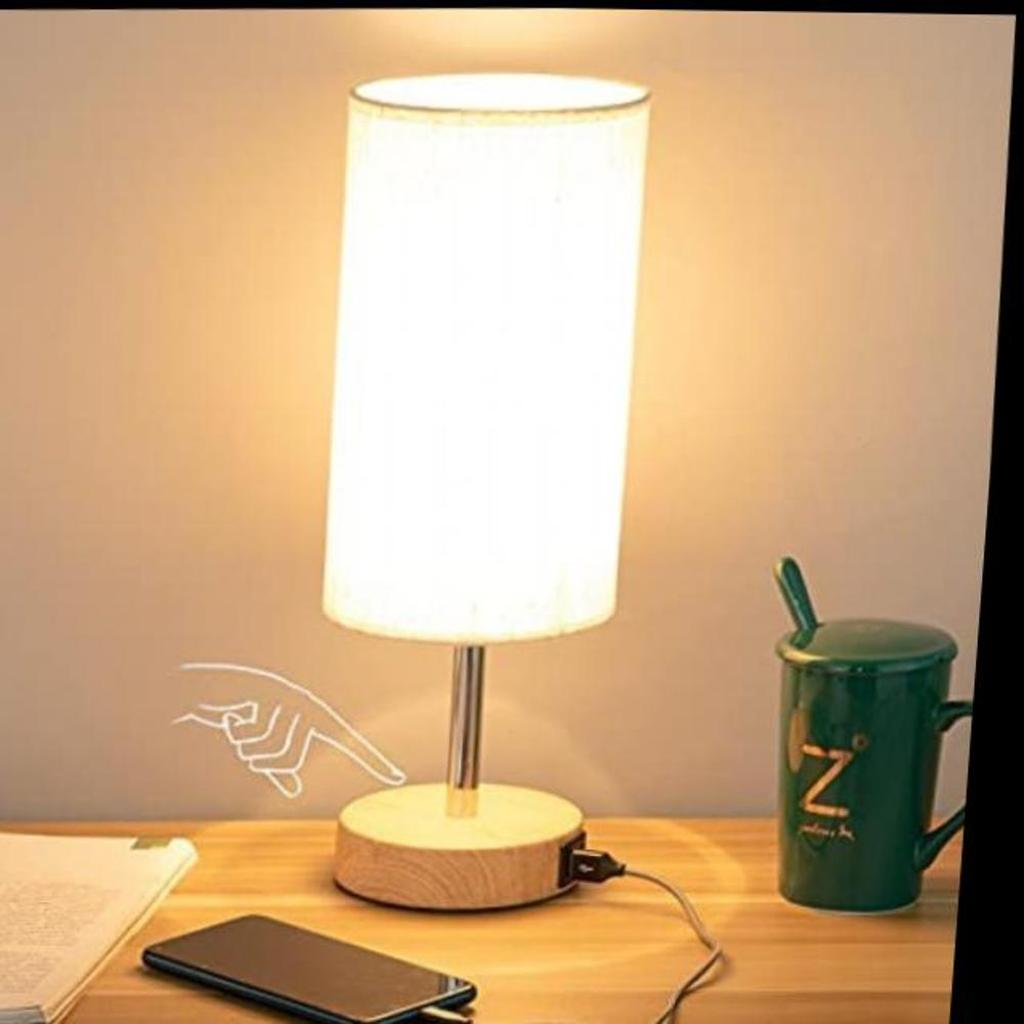shelf: (276, 45, 731, 919)
